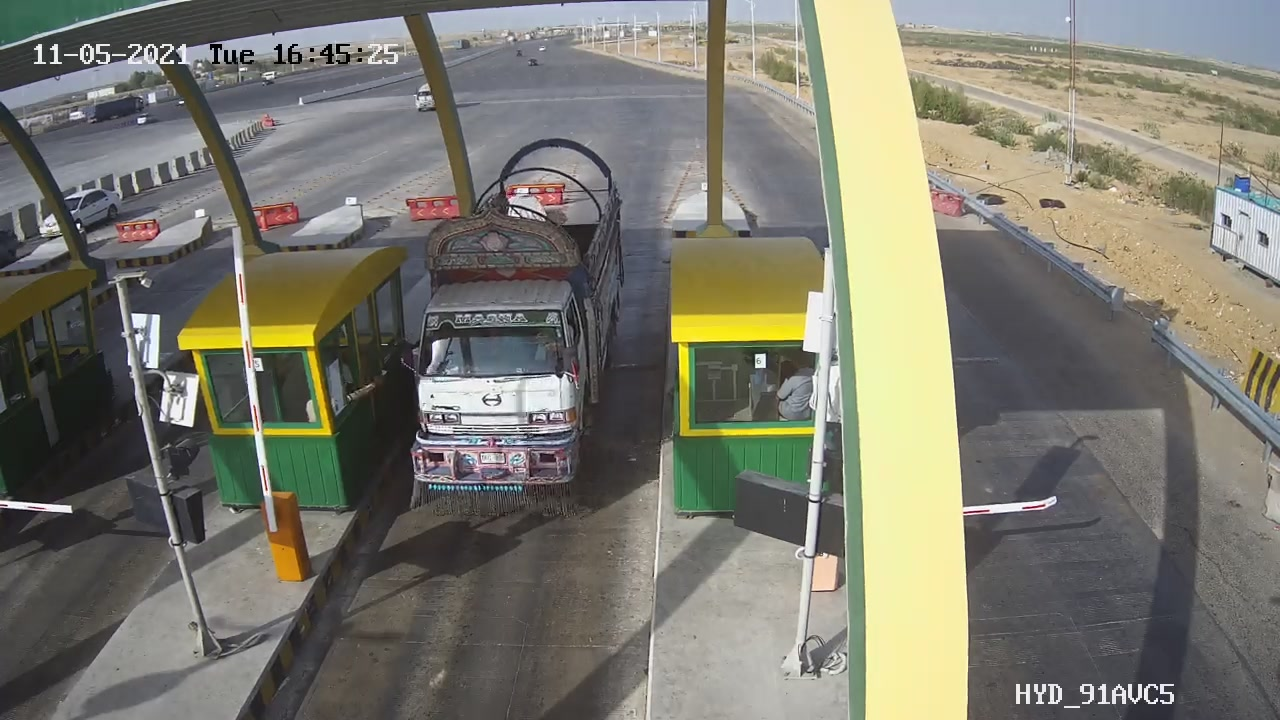F5: (381, 120, 644, 543)
